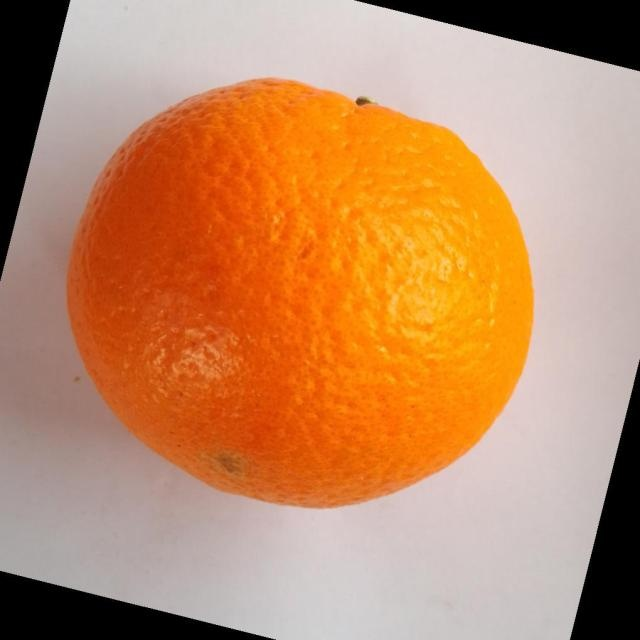agrume: (65, 75, 535, 509)
